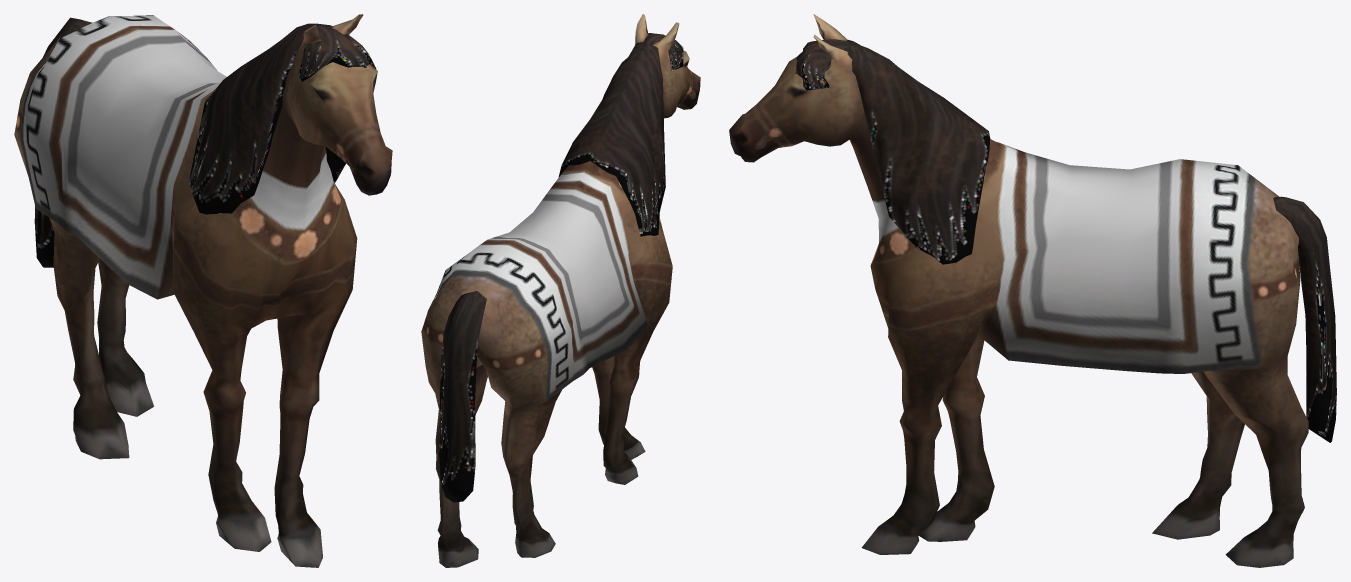
The model's file is body-mediumcavalry.glb.
3 renders of one model, left to right at view 1: azimuth 30°, elevation 25°; view 2: azimuth 150°, elevation 25°; view 3: azimuth 270°, elevation 25°, orthographic. The views are drawn at different scales.
Bounding box in the file's own units: 0.8074 × 2.51 × 2.66.
1 material, 1 textured.
